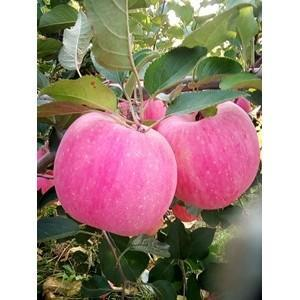apple: (55, 111, 177, 241), (156, 99, 260, 210)
